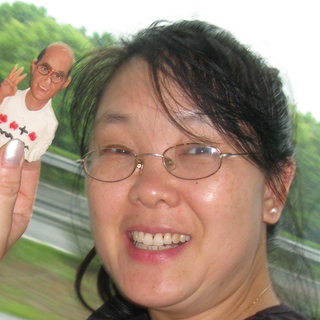eye: (167, 138, 225, 172), (97, 140, 145, 172)
